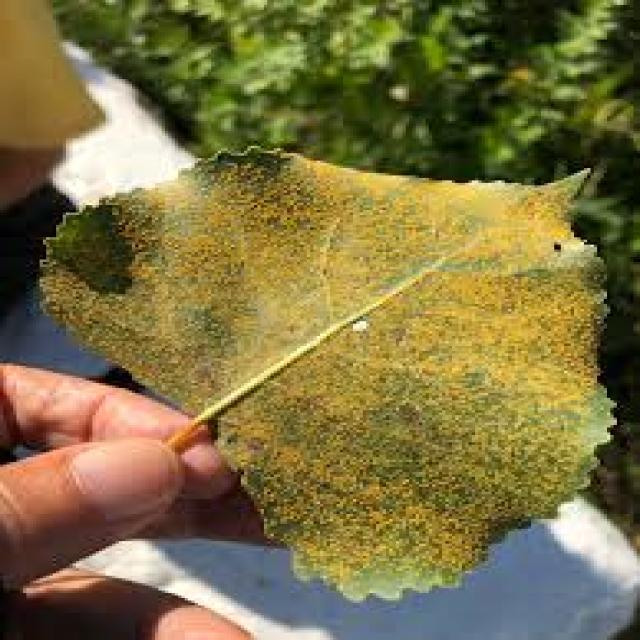leaf_rust: (46, 148, 610, 596)
